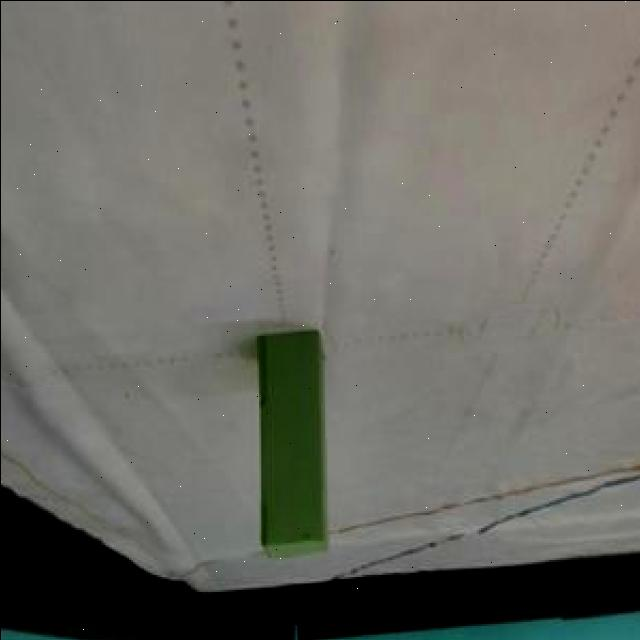greenbox: (255, 324, 336, 566)
